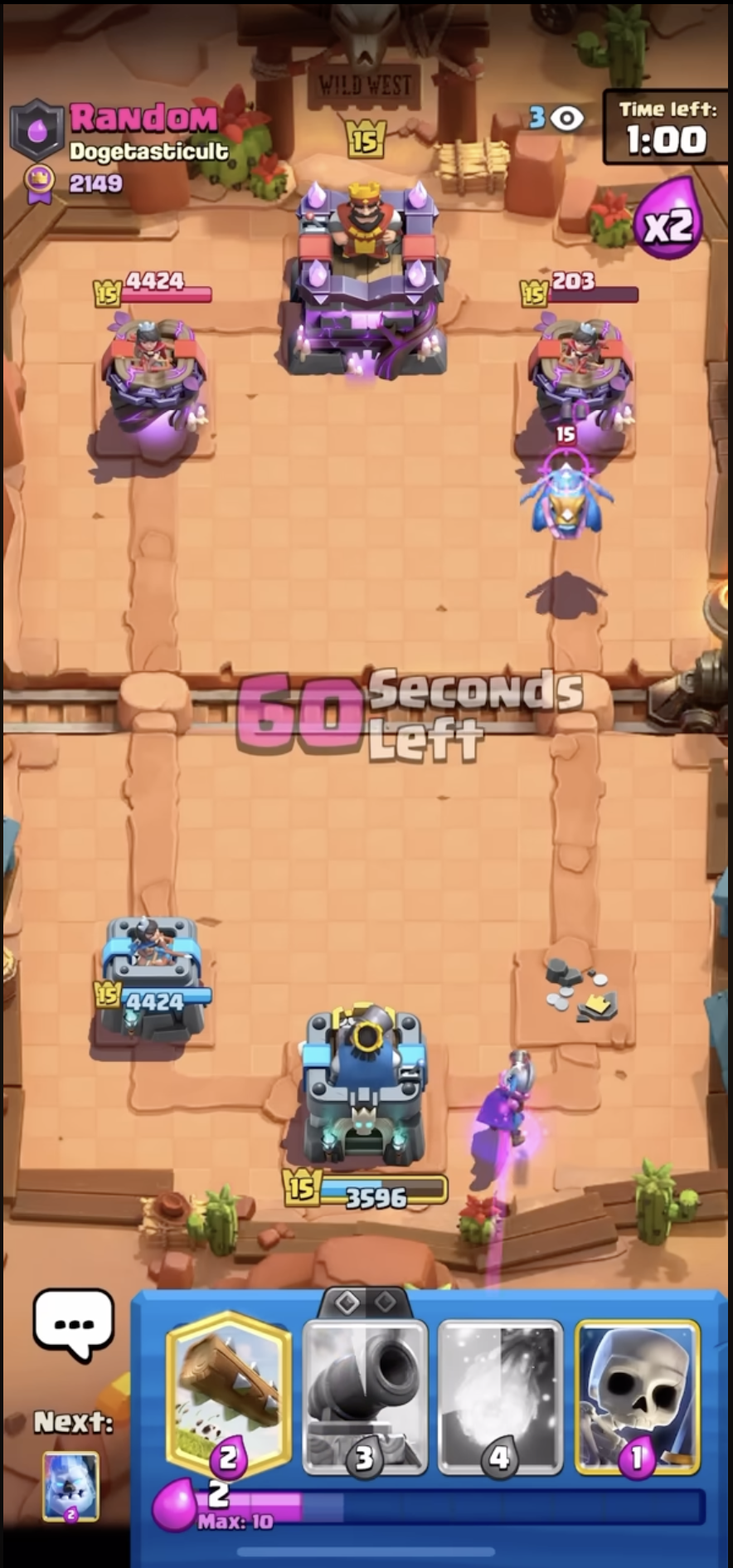evo_musketeer: (473, 1034, 547, 1176)
